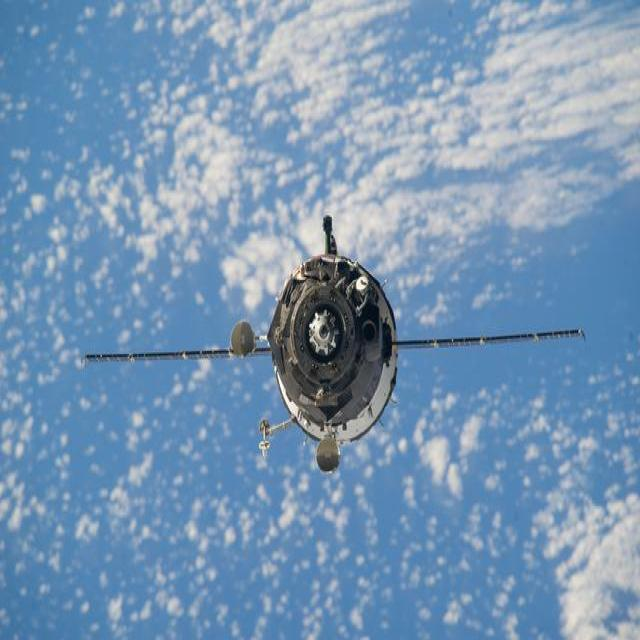medium_debris: (74, 214, 598, 474)
